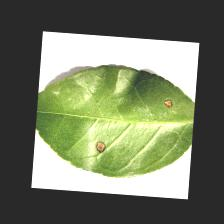canker: (92, 132, 121, 172)
